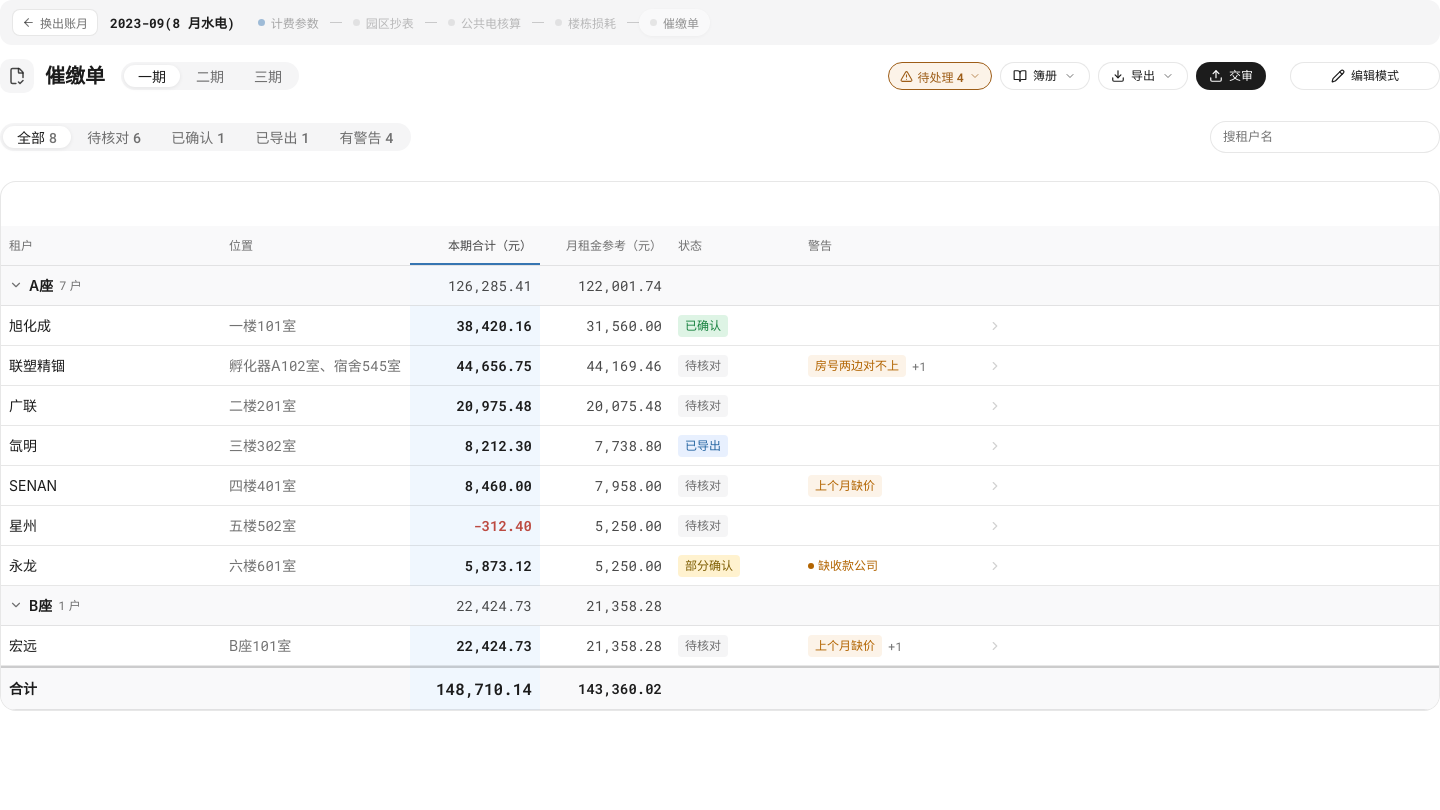
Test: T15 问题面板跳行、机械替换、改动数 › 明细里一行都没有:场地租金、水电费两页都是空状态换掉表格,不是表里一行灰字
The width and height of the screenshot is (1440, 810).
Click the row "广联 二楼201室 20,975.48 20,075.48 待核对". click: (720, 406)
box: [1, 386, 1439, 426]
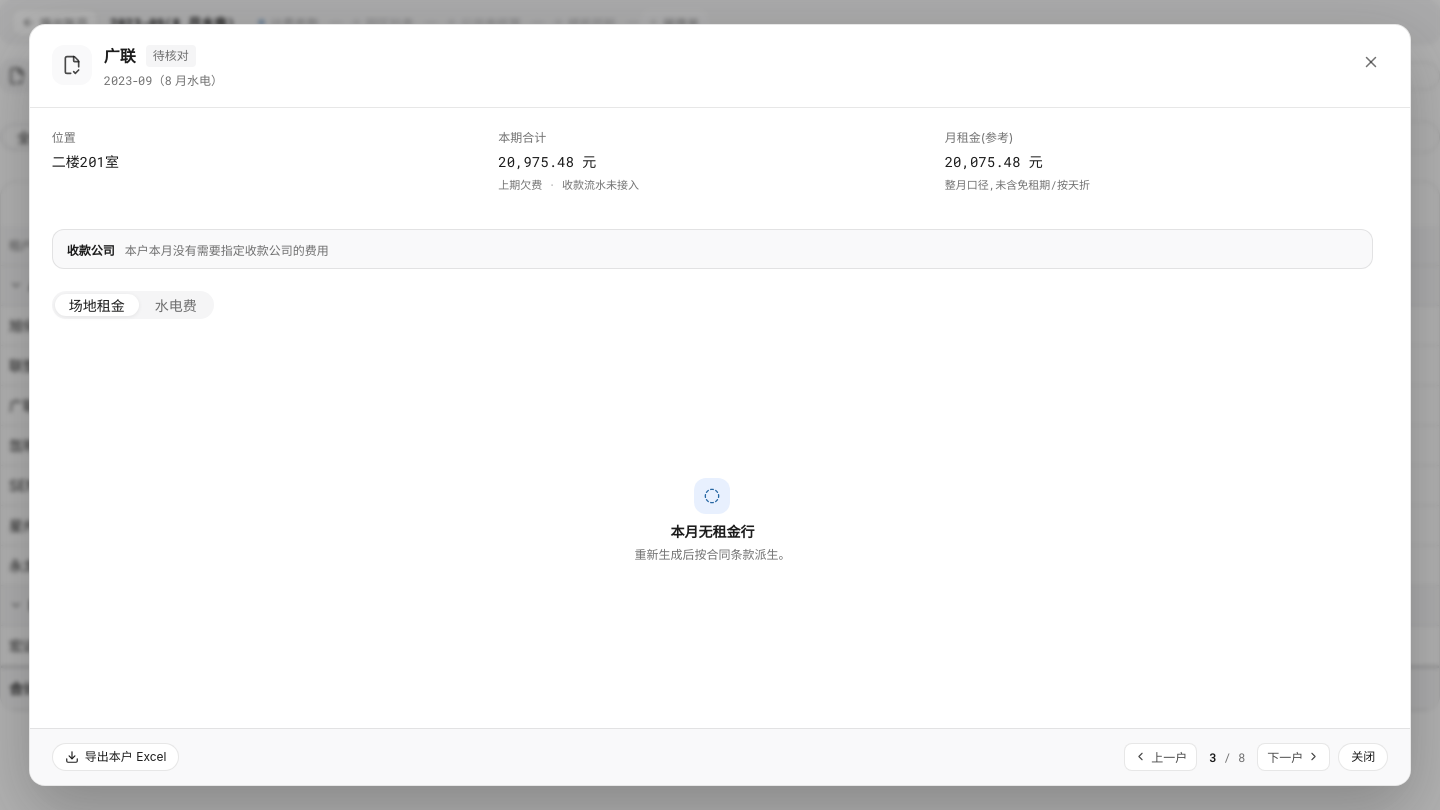
Check: the element with class "bn-hgrid" is shown, box [52, 130, 1090, 192]
Check: the text "本月无租金行" is shown, box [670, 522, 754, 542]
Click the tab "水电费". click: (176, 305)
box: [141, 294, 211, 316]
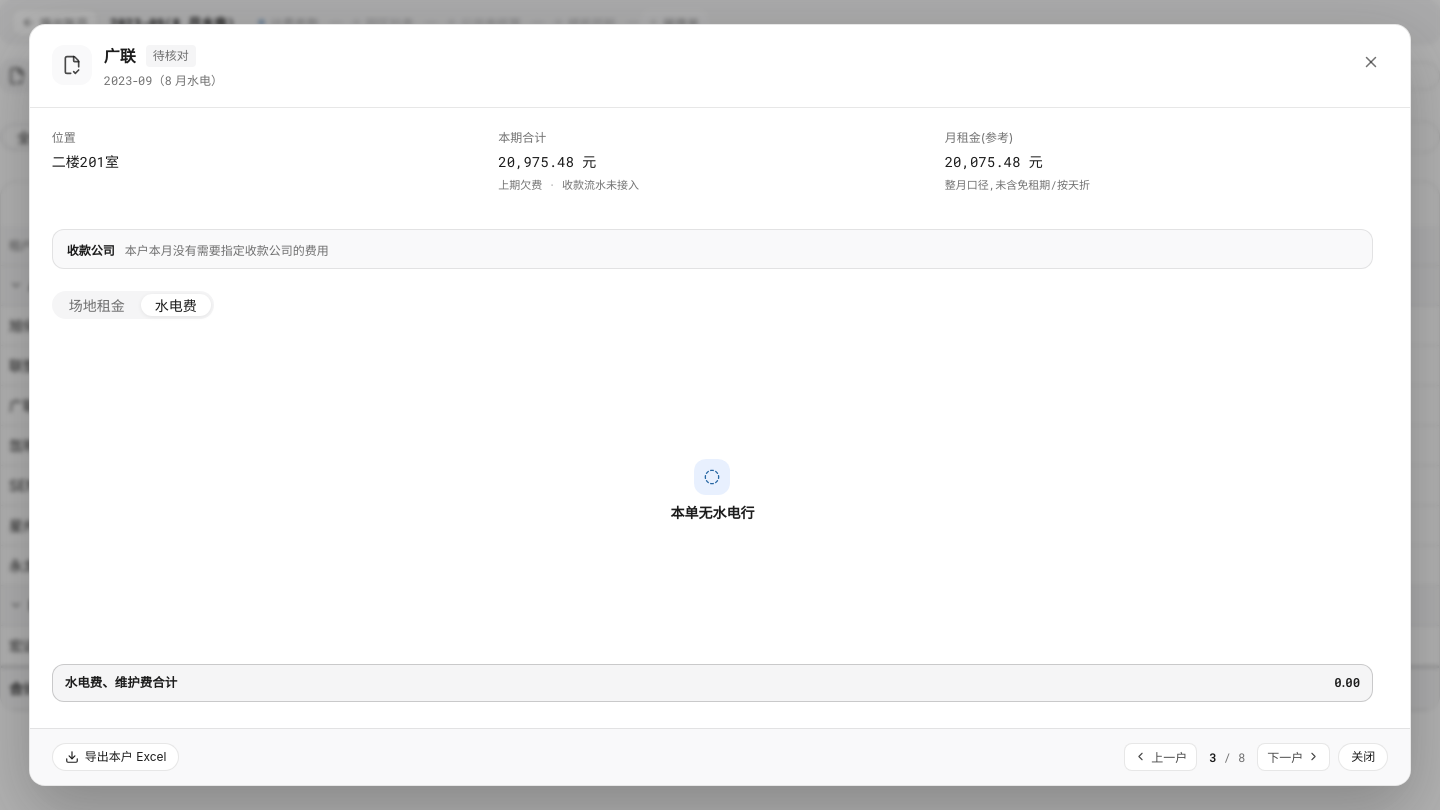
Check: the text "本单无水电行" is shown, box [670, 504, 754, 524]
